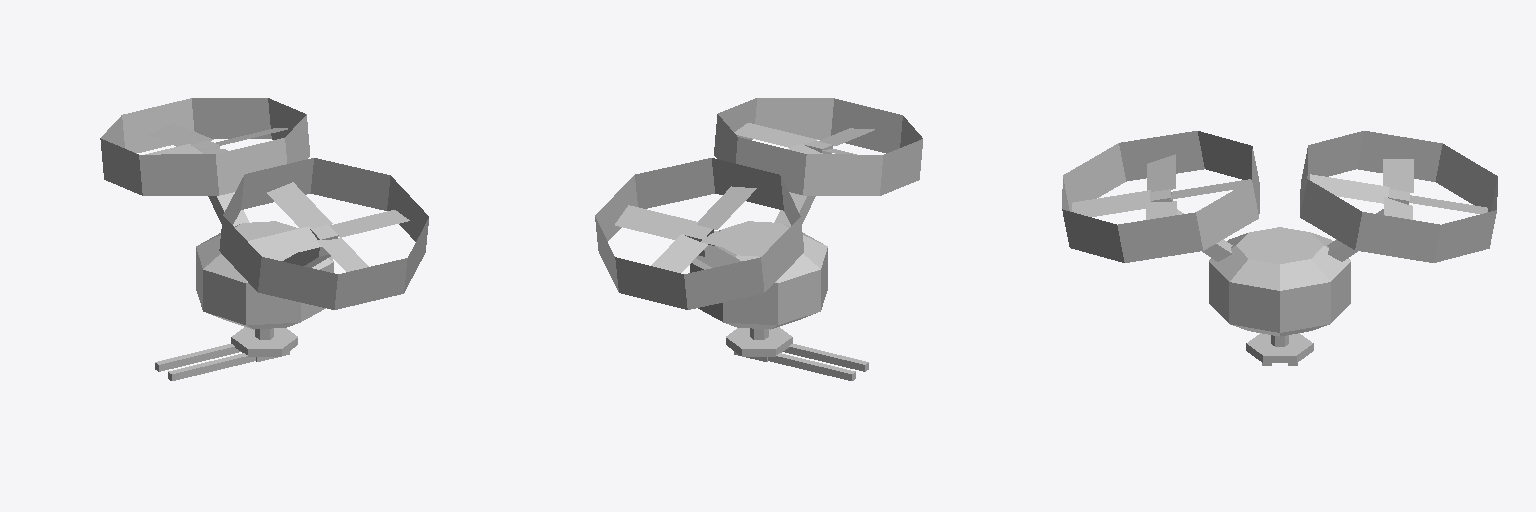
The model's file is dronePrototype.obj.
3 views of the same model, side by side, from view 1: azimuth 30°, elevation 25°; view 2: azimuth 150°, elevation 25°; view 3: azimuth 270°, elevation 25° (orthographic).
Parts seen in each view (by area): view 1: Cylinder.002_Cylinder.001, Cylinder.003_Cylinder.002, Cylinder.001_Cylinder.003; view 2: Cylinder.003_Cylinder.002, Cylinder.002_Cylinder.001, Cylinder.001_Cylinder.003; view 3: Cylinder.003_Cylinder.002, Cylinder.002_Cylinder.001, Cylinder.001_Cylinder.003.
Boxes of the visible parts, box(x1,y1,x2,y2) form: Cylinder.002_Cylinder.001: box(219, 158, 428, 309); Cylinder.003_Cylinder.002: box(100, 98, 309, 226); Cylinder.001_Cylinder.003: box(155, 221, 333, 380); Cylinder.003_Cylinder.002: box(595, 158, 803, 309); Cylinder.002_Cylinder.001: box(714, 98, 922, 226); Cylinder.001_Cylinder.003: box(690, 221, 868, 380); Cylinder.003_Cylinder.002: box(1300, 131, 1497, 262); Cylinder.002_Cylinder.001: box(1062, 131, 1259, 262); Cylinder.001_Cylinder.003: box(1151, 198, 1350, 365).
Bounding box in the file's own units: 2.05 × 2.07 × 4.18.